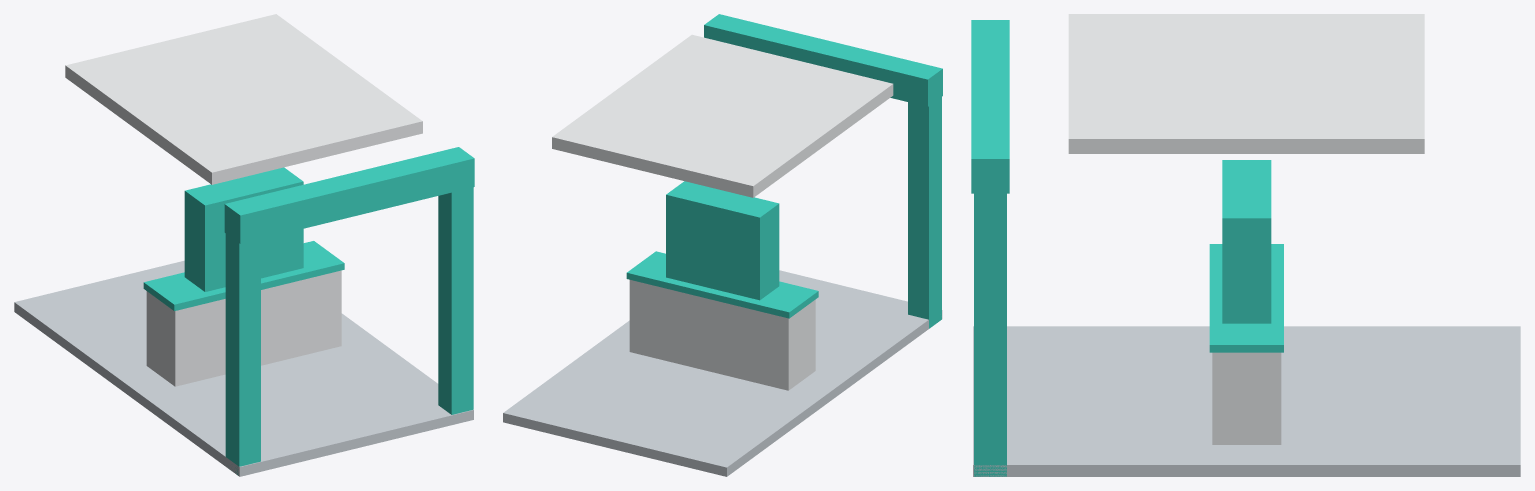
3 views of the same model, side by side, from view 1: azimuth 30°, elevation 25°; view 2: azimuth 150°, elevation 25°; view 3: azimuth 270°, elevation 25° (orthographic). The views are drawn at different scales.
Parts seen in each view (by area): view 1: Exhibition Booth Concept; view 2: Exhibition Booth Concept; view 3: Exhibition Booth Concept.
Boxes of the visible parts, <box> form: Exhibition Booth Concept: <box>14,14,474,476</box>; Exhibition Booth Concept: <box>503,14,942,476</box>; Exhibition Booth Concept: <box>971,14,1520,476</box>.
Bounding box in the file's own units: 3 × 3.34 × 5.02.
